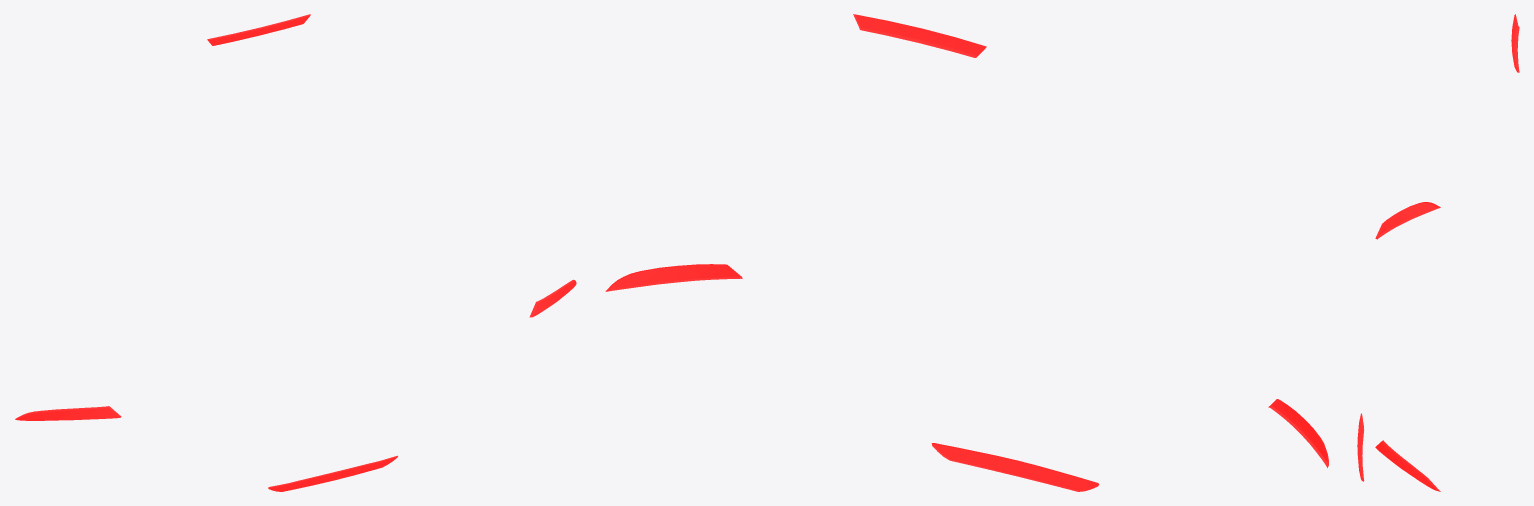
File: glasss.glb
3 renders of one model, left to right at view 1: azimuth 30°, elevation 25°; view 2: azimuth 150°, elevation 25°; view 3: azimuth 270°, elevation 25°, orthographic. The views are drawn at different scales.
Visible parts, largest first — view 1: glasss; view 2: glasss; view 3: glasss.
Boxes of the visible parts, x1,y1,x2,y2 form: glasss: (15,14,576,491); glasss: (605,14,1328,491); glasss: (1357,14,1519,491).
Size of the model in its own units: 1.46 by 0.9968 by 0.3521.
